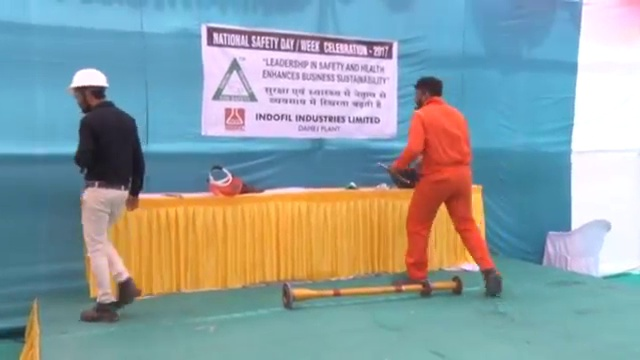helmet: (64, 68, 110, 93)
helmet_off: (413, 76, 445, 107)
helmet_on: (64, 67, 110, 114)
person: (403, 80, 508, 303), (61, 66, 152, 323)
